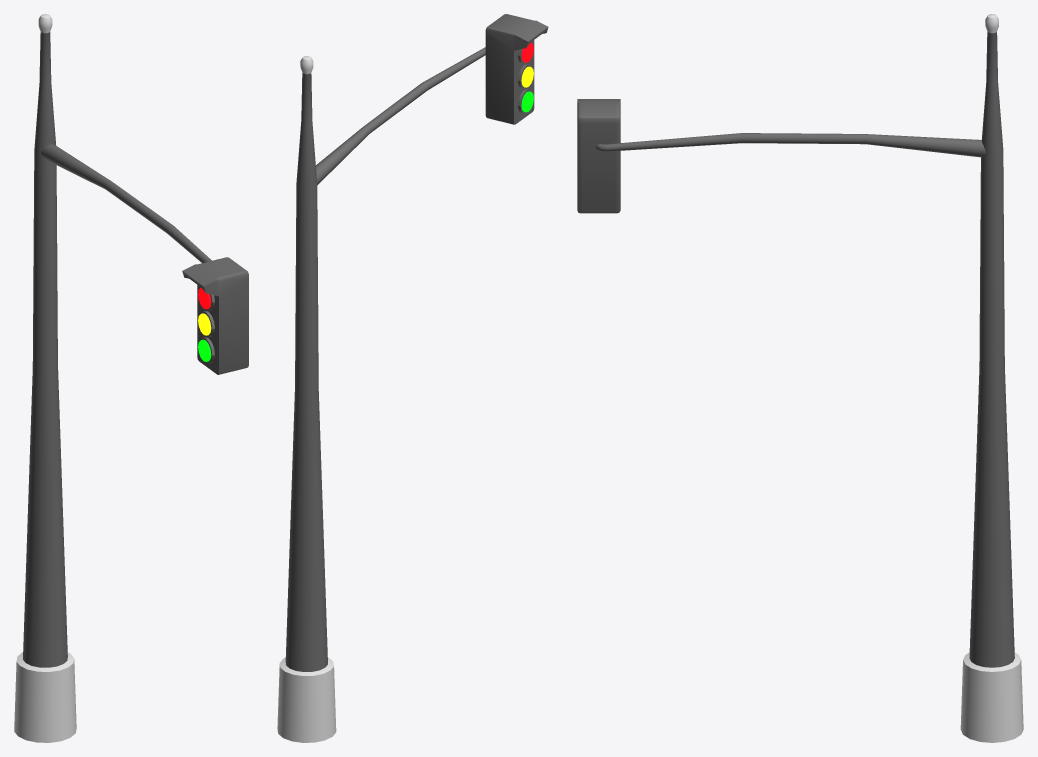
The model's file is Semaforo.fbx.
3 renders of one model, left to right at view 1: azimuth 30°, elevation 25°; view 2: azimuth 150°, elevation 25°; view 3: azimuth 270°, elevation 25°, orthographic. The views are drawn at different scales.
Visible parts, largest first — view 1: Cylinder.001, Cube; view 2: Cylinder.001, Cube; view 3: Cylinder.001, Cube.
Part boxes in pixels (x1,y1,x2,y2): Cylinder.001: (14, 14, 211, 742); Cube: (182, 257, 248, 374); Cylinder.001: (277, 47, 485, 742); Cube: (485, 14, 548, 124); Cylinder.001: (596, 14, 1023, 742); Cube: (577, 99, 620, 213).
Bounding box in the file's own units: 351 × 3144 × 1779.
